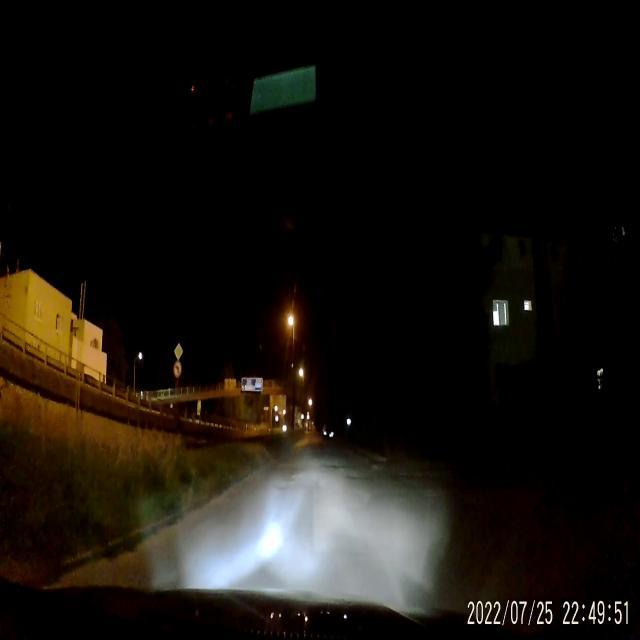Pothole: (284, 476, 296, 486), (278, 482, 283, 490)
